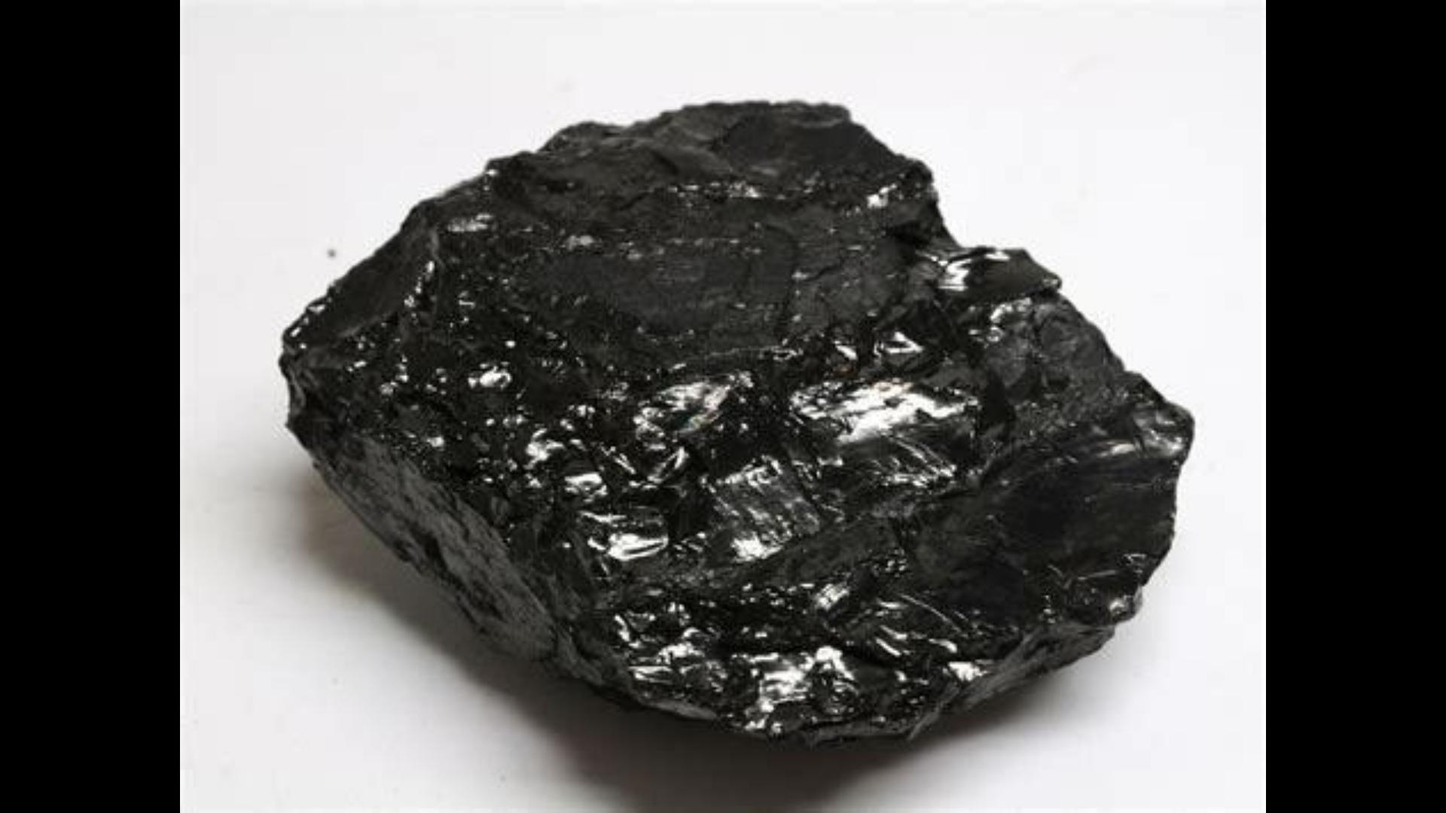rock: (283, 103, 1190, 737)
